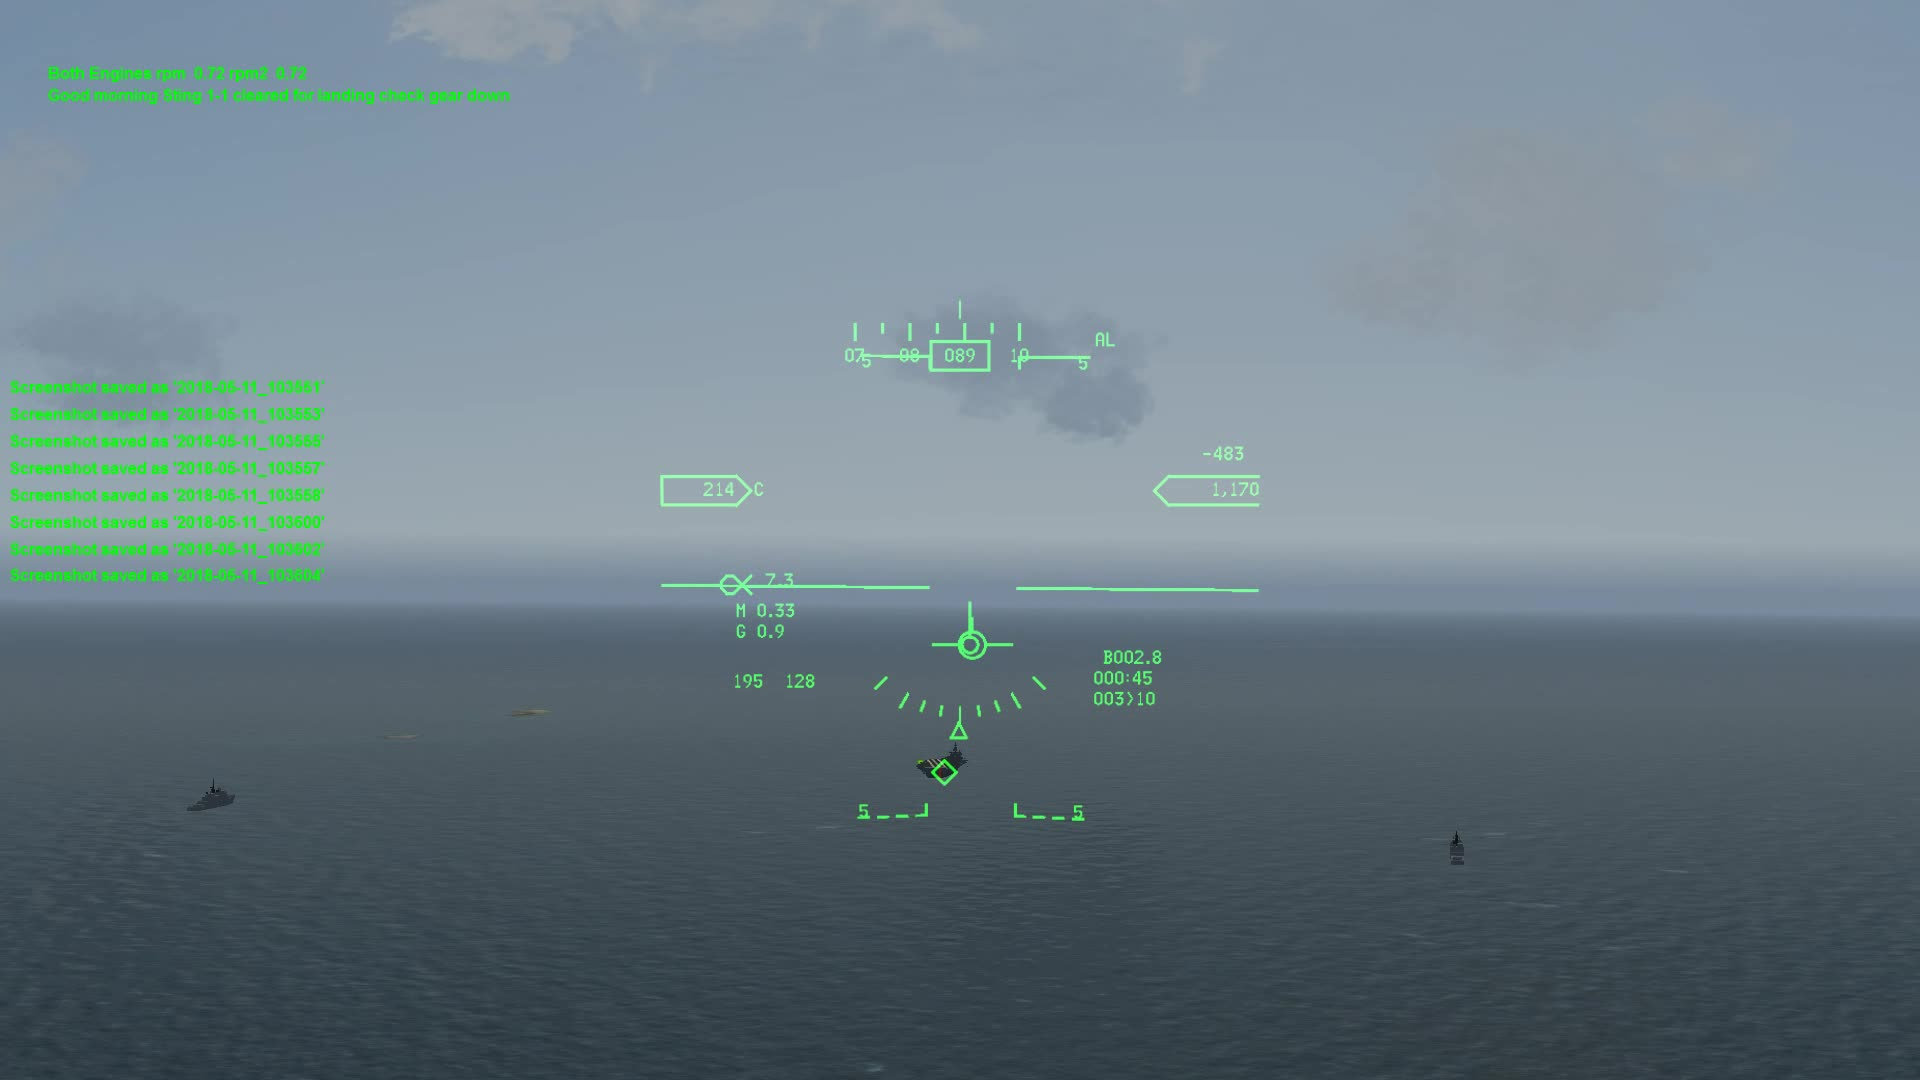speed vector: (944, 628, 993, 669)
